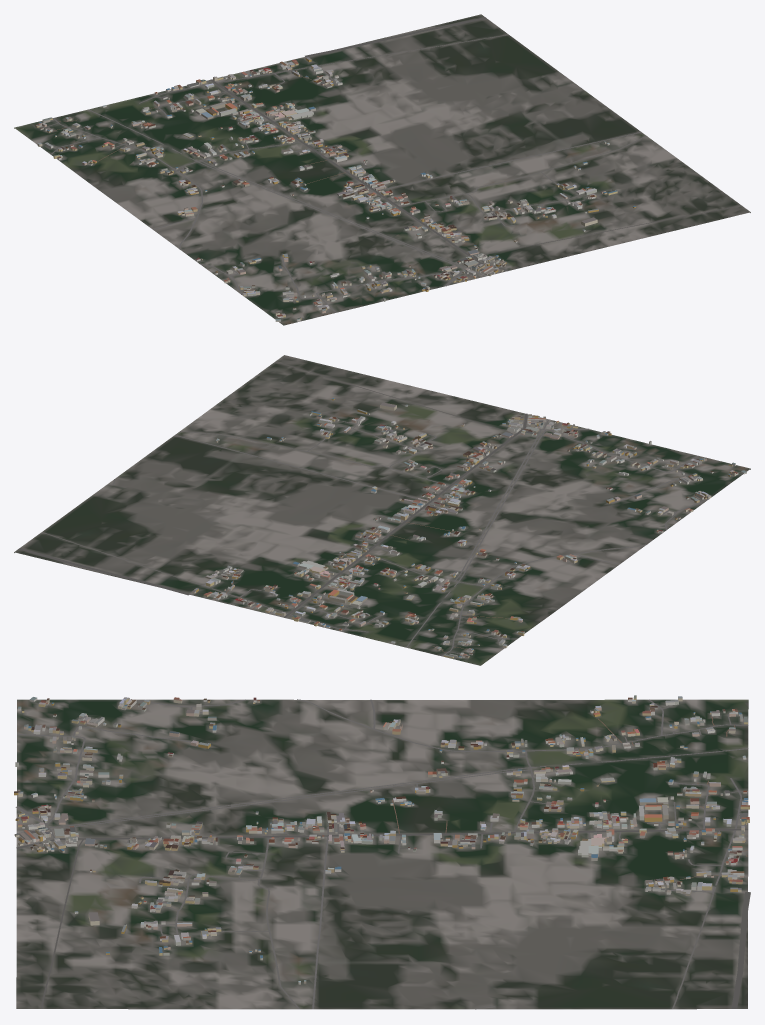
The picture shows the model from 3 angles, top to bottom: view 1: azimuth 30°, elevation 25°; view 2: azimuth 150°, elevation 25°; view 3: azimuth 270°, elevation 25°; orthographic projection. The views are drawn at different scales.
Parts seen in each view (by area): view 1: ground, buildings, roads; view 2: ground, buildings, roads; view 3: ground, buildings, roads.
Part boxes in pixels (<box>): ground: <box>14,14,750,325</box>; buildings: <box>35,56,635,321</box>; roads: <box>41,17,741,312</box>; ground: <box>14,355,750,665</box>; buildings: <box>192,398,746,658</box>; roads: <box>18,361,708,656</box>; ground: <box>16,699,748,1009</box>; buildings: <box>14,695,749,984</box>; roads: <box>15,699,750,1009</box>.
Size of the model in its own units: 1407 by 15.7 by 1411.
